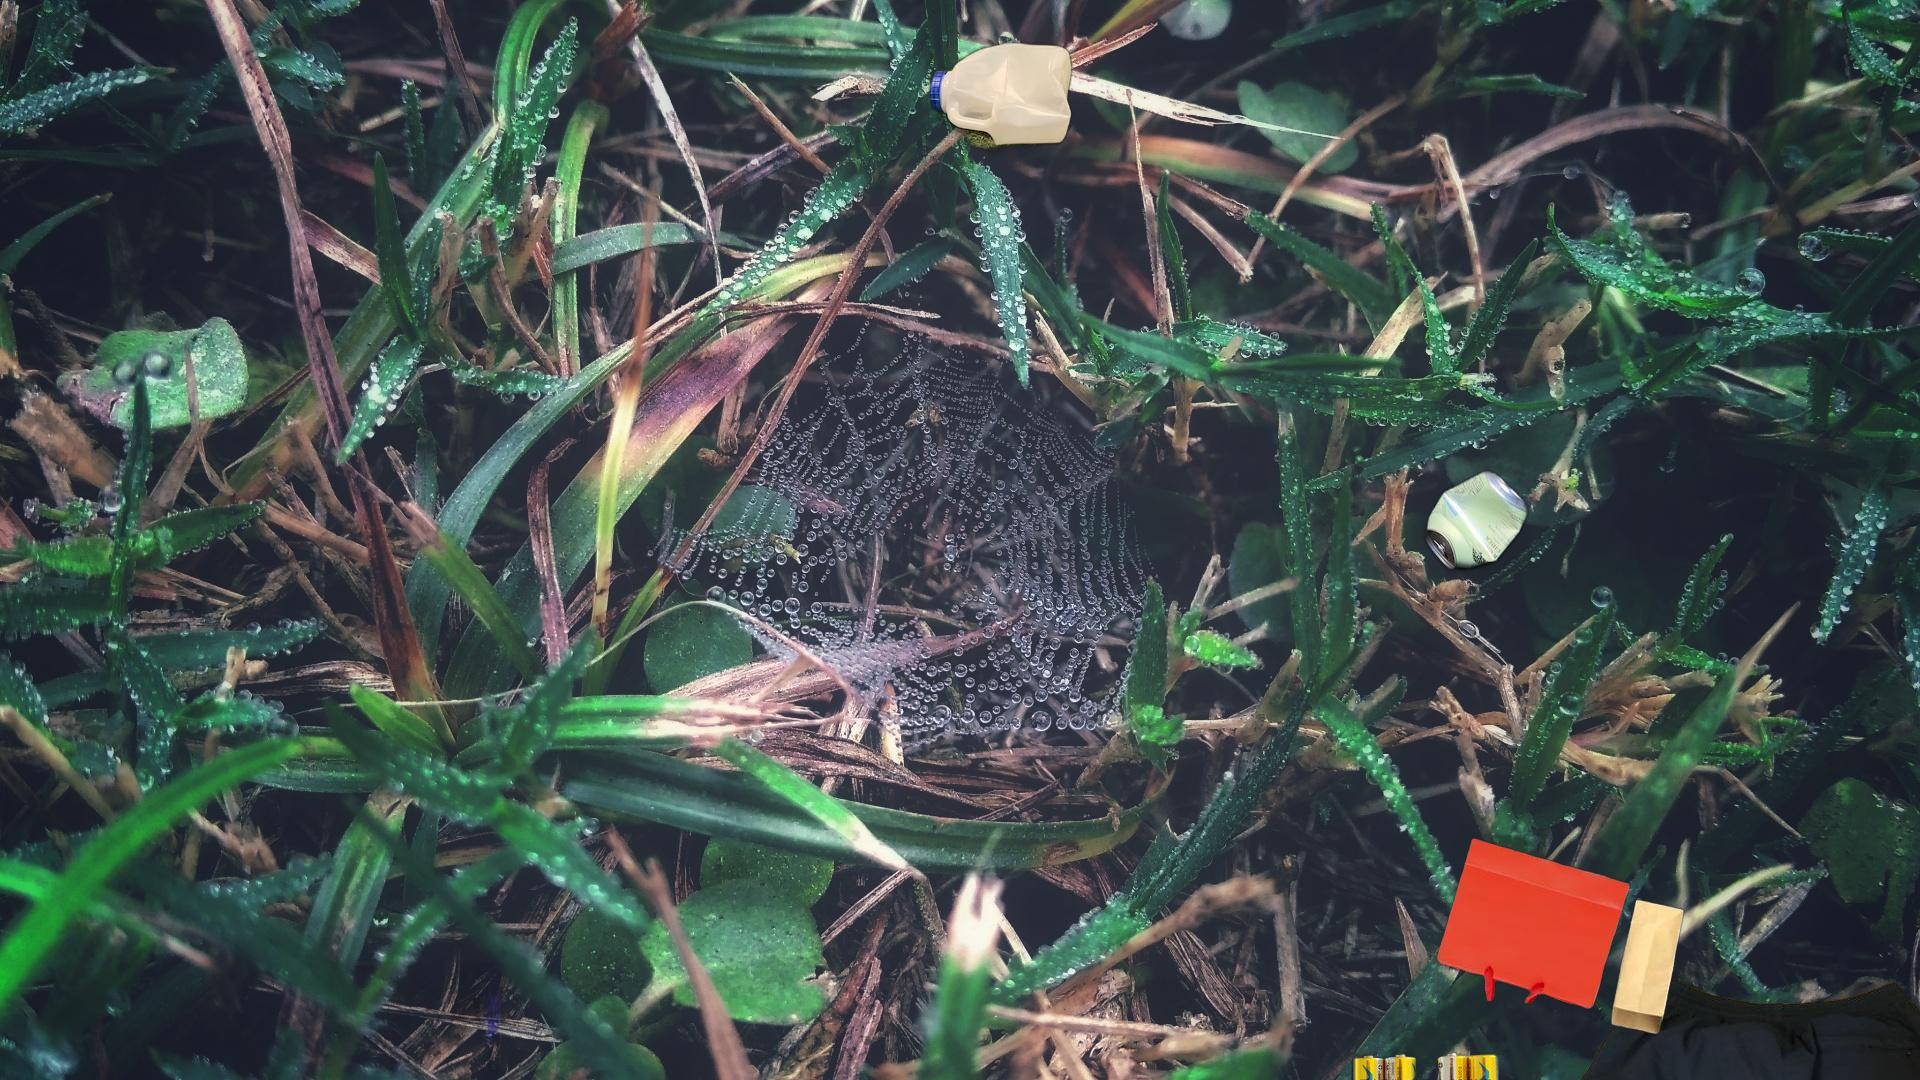battery: (1319, 1029, 1526, 1080)
clothes: (1557, 972, 1920, 1080)
metal-cans: (1192, 332, 1704, 837)
paper-bag: (1433, 835, 1687, 1038)
penholder: (266, 862, 621, 1080)
plastic-bottles: (924, 36, 1076, 160)
